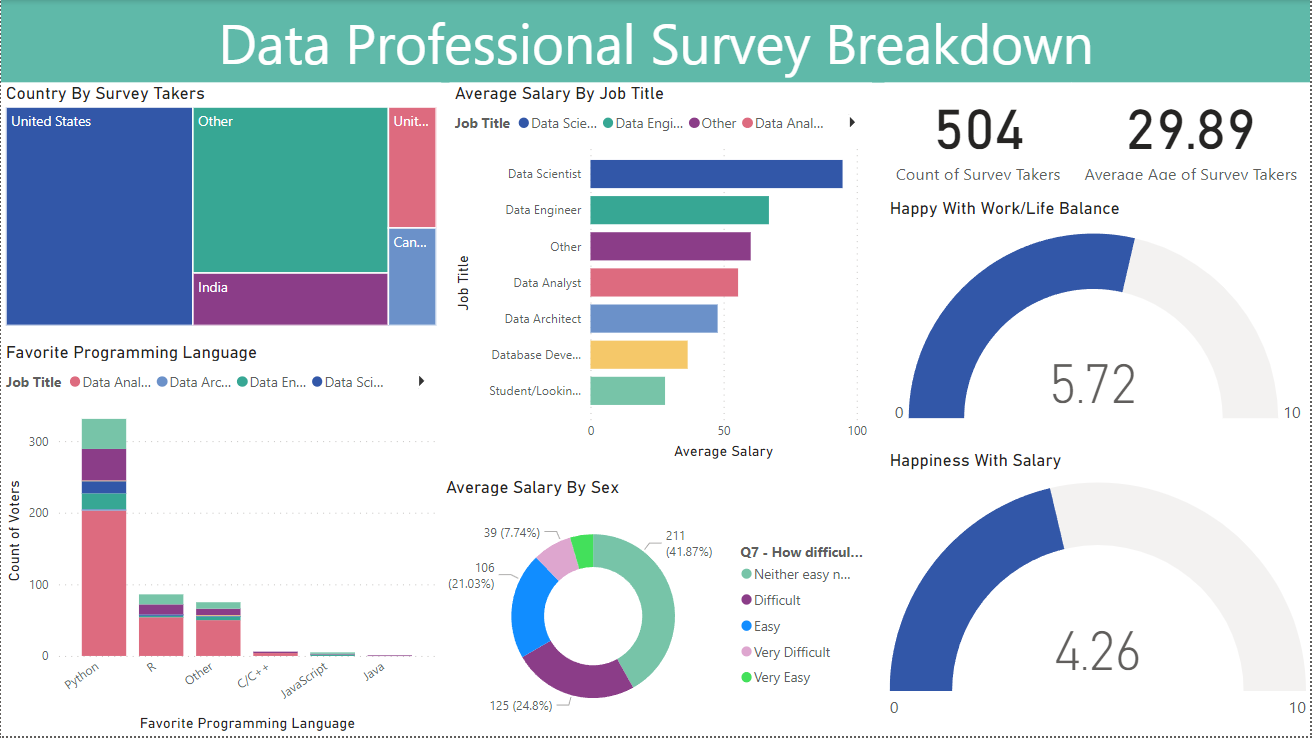

Layout of this report page (visuals, bound fields, positions):
{"tool":"powerbi","page":{"name":"Page 1","canvas":[1280,720],"ordinal":0},"visuals":[{"type":"textbox","box":[0,0,1280.6,80.9],"z":0},{"type":"card","fields":{"Values":["Count(Data Professional Survey.Unique ID)"]},"box":[863.8,80.9,182.3,100.1],"z":1000},{"type":"card","fields":{"Values":["Avg(Data Professional Survey.Q10 - Current Age)"]},"box":[1046.1,80.9,234.4,100.1],"z":2000},{"type":"barChart","title":"Average Salary By Job Title","fields":{"Category":["Data Professional Survey.Q1 - Which Title Best Fits your Current Role?.1"],"Y":["Avg(Data Professional Survey.Average Salary)"],"Series":["Data Professional Survey.Q1 - Which Title Best Fits your Current Role?.1"]},"box":[438.8,80.7,413.2,372.8],"z":3000},{"type":"columnChart","title":"Favorite Programming Language","fields":{"Category":["Data Professional Survey.Q5 - Favorite Programming Language.1"],"Y":["CountNonNull(Data Professional Survey.Unique ID)"],"Series":["Data Professional Survey.Q1 - Which Title Best Fits your Current Role?.1"]},"box":[0,333.7,430.3,386.3],"z":4000},{"type":"treemap","title":"Country By Survey Takers","fields":{"Group":["Data Professional Survey.Q11 - Which Country do you live in?.1"],"Values":["CountNonNull(Data Professional Survey.Q11 - Which Country do you live in?.1)"]},"box":[0,80.9,430.5,242.7],"z":5000},{"type":"gauge","title":"Happiness With Salary","fields":{"Y":["Avg(Data Professional Survey.Q6 - How Happy are you in your Current Position with the following? (Salary))"],"MinValue":["Min(Data Professional Survey.Q6 - How Happy are you in your Current Position with the following? (Salary))"],"MaxValue":["Max(Data Professional Survey.Q6 - How Happy are you in your Current Position with the following? (Salary))"]},"box":[864.2,440.1,416.8,279.9],"z":6000},{"type":"gauge","title":"Happy With Work/Life Balance","fields":{"Y":["Avg(Data Professional Survey.Q6 - How Happy are you in your Current Position with the following? (Work/Life Balance))"],"MinValue":["Min(Data Professional Survey.Q6 - How Happy are you in your Current Position with the following? (Work/Life Balance))"],"MaxValue":["Max(Data Professional Survey.Q6 - How Happy are you in your Current Position with the following? (Work/Life Balance))1"]},"box":[864.2,193.1,416.8,237.1],"z":7000},{"type":"donutChart","title":"Average Salary By Sex","fields":{"Y":["CountNonNull(Data Professional Survey.Q7 - How difficult was it for you to break into Data?)"],"Category":["Data Professional Survey.Q7 - How difficult was it for you to break into Data?"]},"box":[430.3,465.7,421.7,254.3],"z":8000}]}

Visuals, with their boxes in screenshot pixels (x1, y1, x2, y2), scaled from the page's 1280x720 canvas onto the 1312x738 screenshot:
textbox: <bbox>0, 0, 1311, 83</bbox>
card - Count(Data Professional Survey.Unique ID): <bbox>885, 83, 1072, 186</bbox>
card - Avg(Data Professional Survey.Q10 - Current Age): <bbox>1072, 83, 1311, 186</bbox>
"Average Salary By Job Title" barChart: <bbox>450, 83, 873, 465</bbox>
"Favorite Programming Language" columnChart: <bbox>0, 342, 441, 737</bbox>
"Country By Survey Takers" treemap: <bbox>0, 83, 441, 332</bbox>
"Happiness With Salary" gauge: <bbox>886, 451, 1311, 737</bbox>
"Happy With Work/Life Balance" gauge: <bbox>886, 198, 1311, 441</bbox>
"Average Salary By Sex" donutChart: <bbox>441, 477, 873, 737</bbox>
